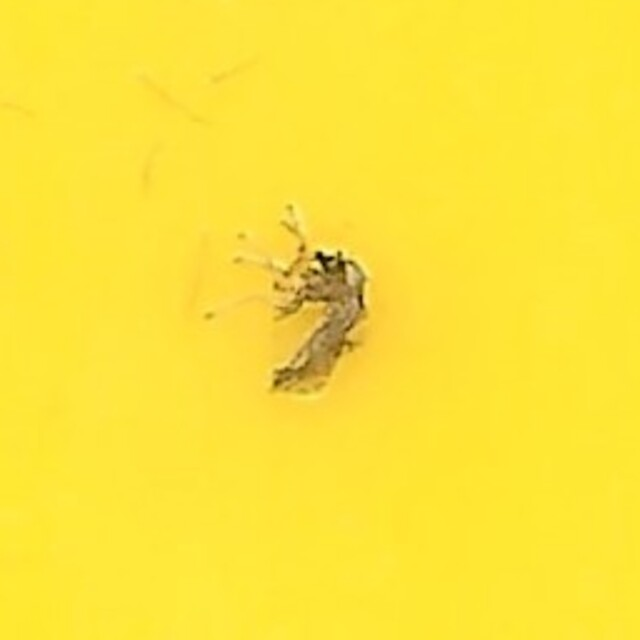Nematocera: (250, 240, 390, 400)
